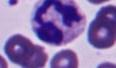N: (31, 0, 86, 46)
